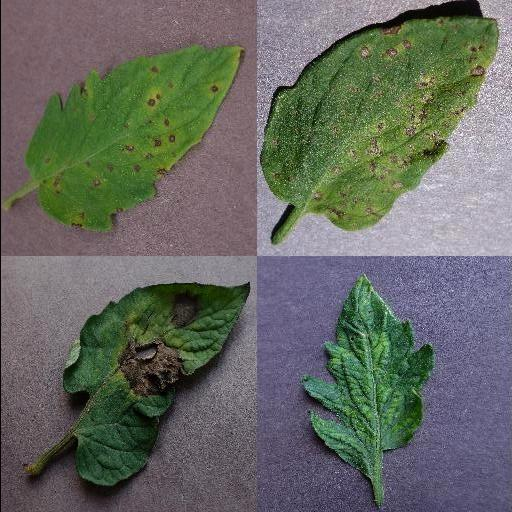Late Blight: (60, 282, 252, 488)
Mosaic Virus: (302, 272, 436, 472)
Septoria: (259, 19, 499, 233), (24, 46, 244, 232)
